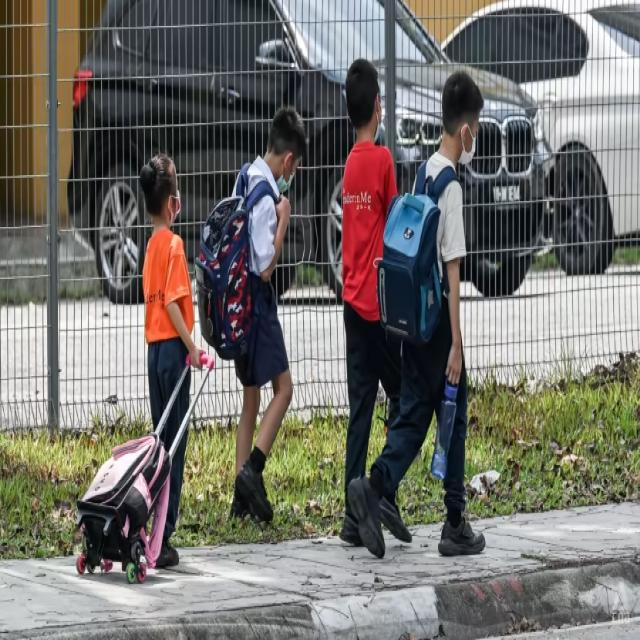Person: (408, 21, 491, 562), (232, 60, 309, 549), (334, 44, 402, 566), (135, 103, 204, 578)
